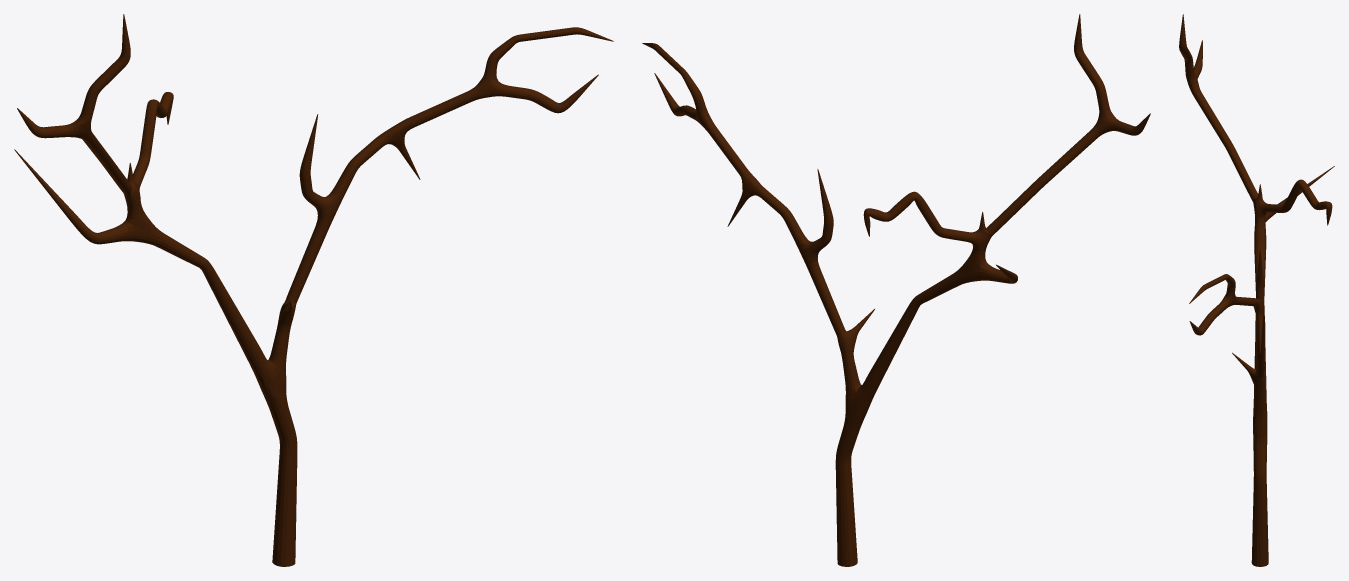
Rendered from Tree4.fbx.
The picture shows the model from 3 angles, left to right: view 1: azimuth 30°, elevation 25°; view 2: azimuth 150°, elevation 25°; view 3: azimuth 270°, elevation 25°; orthographic projection. The views are drawn at different scales.
Visible parts, largest first — view 1: Vert.001; view 2: Vert.001; view 3: Vert.001.
Boxes of the visible parts, x1,y1,x2,y2 form: Vert.001: (14, 14, 613, 566); Vert.001: (642, 14, 1150, 566); Vert.001: (1179, 14, 1334, 566).
Bounding box in the file's own units: 2681 × 2785 × 832.
